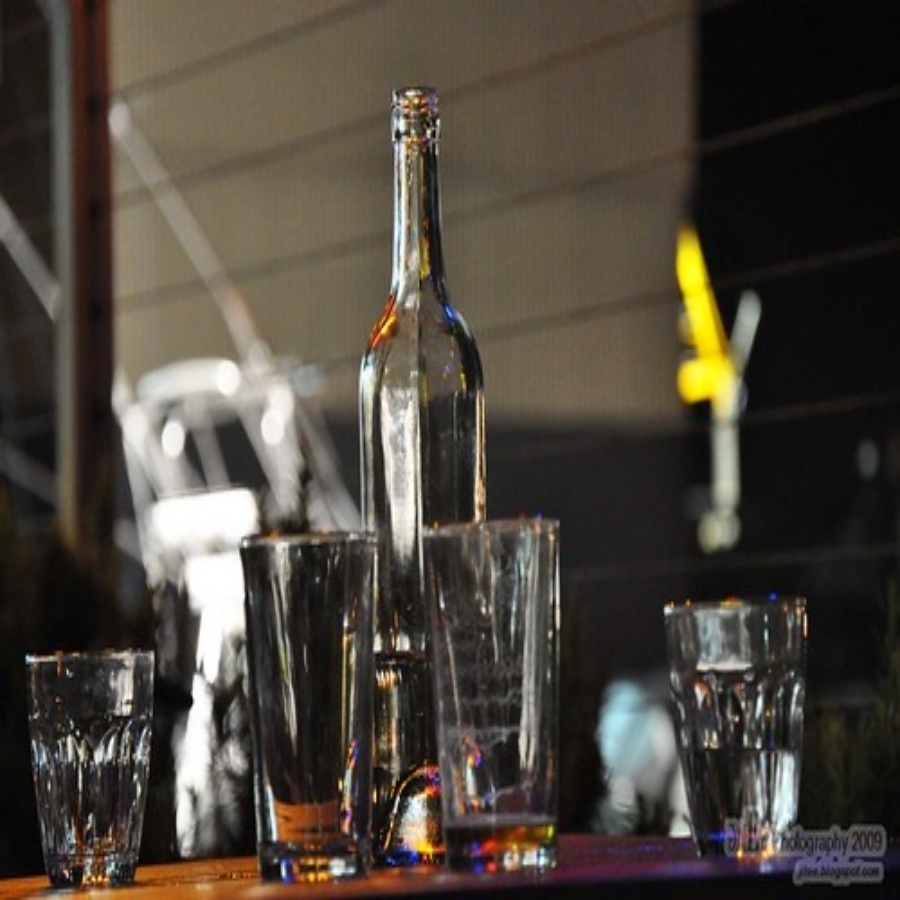whiskey: (670, 589, 815, 851), (23, 638, 168, 900)
